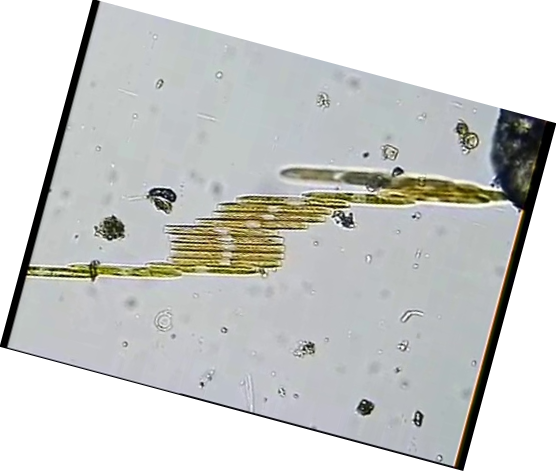Bacillaria: (171, 257, 283, 265), (167, 248, 279, 256), (169, 240, 281, 248), (162, 230, 274, 238), (192, 219, 304, 227), (215, 208, 327, 216), (231, 196, 343, 204)
